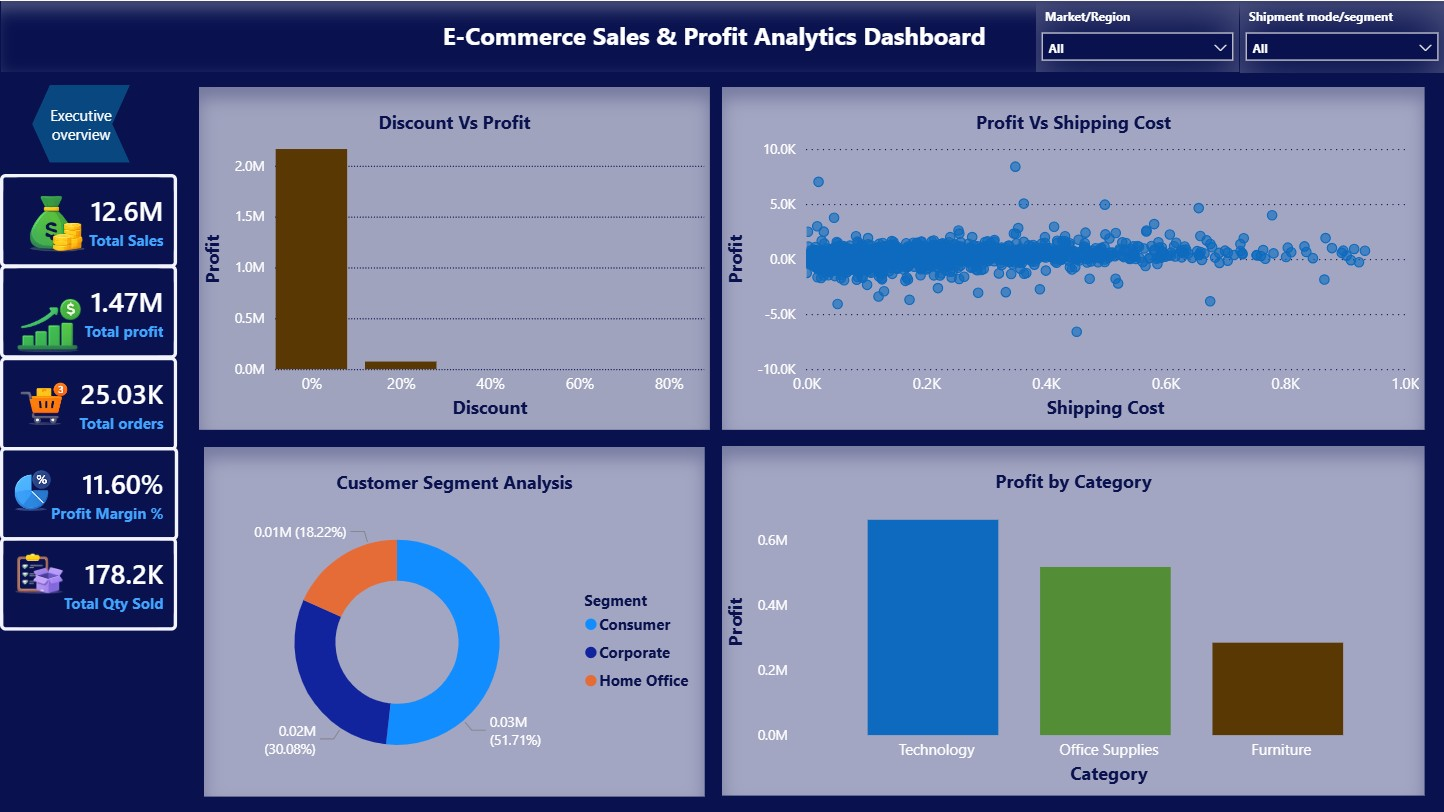

What the dashboard file says about the page in this screenshot:
{"tool":"powerbi","page":{"name":"Advance Analytics","canvas":[1280,720],"ordinal":1},"visuals":[{"type":"textbox","box":[0.9,0,1279.5,63],"z":0},{"type":"cardVisual","fields":{"Data":["ECOMM DATA-2.Total Sales"]},"box":[0,153.4,157,83.3],"z":0,"group":"g1"},{"type":"slicer","fields":{"Values":["ECOMM DATA-2.Ship Mode Hierarchy.Ship Mode","ECOMM DATA-2.Ship Mode Hierarchy.Segment"]},"box":[1099.5,0.9,180.9,63],"z":1000},{"type":"slicer","fields":{"Values":["ECOMM DATA-2.Market Hierarchy.Market","ECOMM DATA-2.Market Hierarchy.Region","ECOMM DATA-2.Market Hierarchy.Country"]},"box":[918.6,0.9,180,62],"z":2000},{"type":"shape","box":[0,63,156.9,657],"z":3000},{"type":"pageNavigator","title":"Advance Analytics","box":[28.4,74.5,87.8,69.2],"z":4000},{"type":"group","id":"g1","title":"Group 4","box":[0,153.4,157,83.3],"z":5000},{"type":"cardVisual","fields":{"Data":["ECOMM DATA-2.Total profit"]},"box":[0,234.1,157,83.3],"z":6000},{"type":"image","box":[15.1,253.6,62.1,63.8],"z":7000},{"type":"cardVisual","fields":{"Data":["ECOMM DATA-2.Total orders"]},"box":[0,315.7,157,83.3],"z":8000},{"type":"image","box":[24.5,170.8,49.9,53.2],"z":9000,"group":"g1"},{"type":"cardVisual","fields":{"Data":["ECOMM DATA-2.Total Qty Sold"]},"box":[0,475.3,157,83.3],"z":9000},{"type":"cardVisual","fields":{"Data":["ECOMM DATA-2.Profit Margin %"]},"box":[0,395.5,157.8,83.3],"z":10000},{"type":"image","box":[11.5,334.3,61.2,46.1],"z":11000},{"type":"image","box":[10.6,485,47.9,46.1],"z":12000},{"type":"image","box":[0,413.1,58.6,40.5],"z":13000},{"type":"clusteredColumnChart","title":"Discount Vs Profit","fields":{"Y":["Sum(ECOMM DATA-2.Profit)"],"Category":["ECOMM DATA-2.Discount (bins)"]},"box":[176.5,76.3,453.1,304.1],"z":14000},{"type":"scatterChart","title":"Profit Vs Shipping Cost","fields":{"X":["ECOMM DATA-2.Shipping Cost"],"Y":["Sum(ECOMM DATA-2.Profit)"]},"box":[640.2,76.3,623.3,304.1],"z":16000},{"type":"donutChart","title":" Customer Segment Analysis","fields":{"Y":["CountNonNull(ECOMM DATA-2.Segment)"],"Category":["ECOMM DATA-2.Segment"]},"box":[180.9,395.5,444.2,310.3],"z":17000},{"type":"columnChart","title":" Profit by Category","fields":{"Y":["Sum(ECOMM DATA-2.Profit)"],"Category":["ECOMM DATA-2.Category"]},"box":[640.2,394.6,623.3,310.3],"z":18000}]}

Visuals, with their boxes in screenshot pixels (x1, y1, x2, y2), scaled from the page's 1280x720 canvas onto the 1444x812 screenshot:
textbox: [1,0,1443,71]
cardVisual - ECOMM DATA-2.Total Sales: [0,173,177,267]
slicer - ECOMM DATA-2.Ship Mode Hierarchy.Ship Mode x ECOMM DATA-2.Ship Mode Hierarchy.Segment: [1240,1,1443,72]
slicer - ECOMM DATA-2.Market Hierarchy.Market x ECOMM DATA-2.Market Hierarchy.Region: [1036,1,1239,71]
shape: [0,71,177,811]
"Advance Analytics" pageNavigator: [32,84,131,162]
"Group 4" group: [0,173,177,267]
cardVisual - ECOMM DATA-2.Total profit: [0,264,177,358]
image: [17,286,87,358]
cardVisual - ECOMM DATA-2.Total orders: [0,356,177,450]
image: [28,193,84,253]
cardVisual - ECOMM DATA-2.Total Qty Sold: [0,536,177,630]
cardVisual - ECOMM DATA-2.Profit Margin %: [0,446,178,540]
image: [13,377,82,429]
image: [12,547,66,599]
image: [0,466,66,512]
"Discount Vs Profit" clusteredColumnChart: [199,86,710,429]
"Profit Vs Shipping Cost" scatterChart: [722,86,1425,429]
" Customer Segment Analysis" donutChart: [204,446,705,796]
" Profit by Category" columnChart: [722,445,1425,795]
